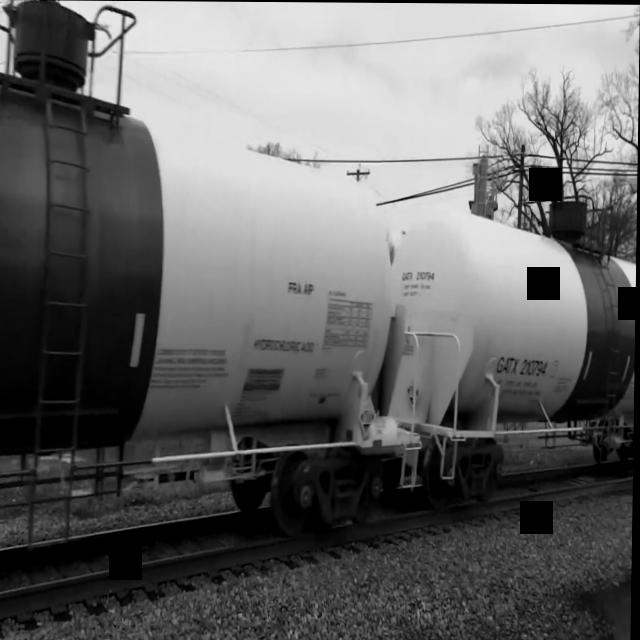tank: (0, 0, 412, 542), (403, 171, 638, 517)
